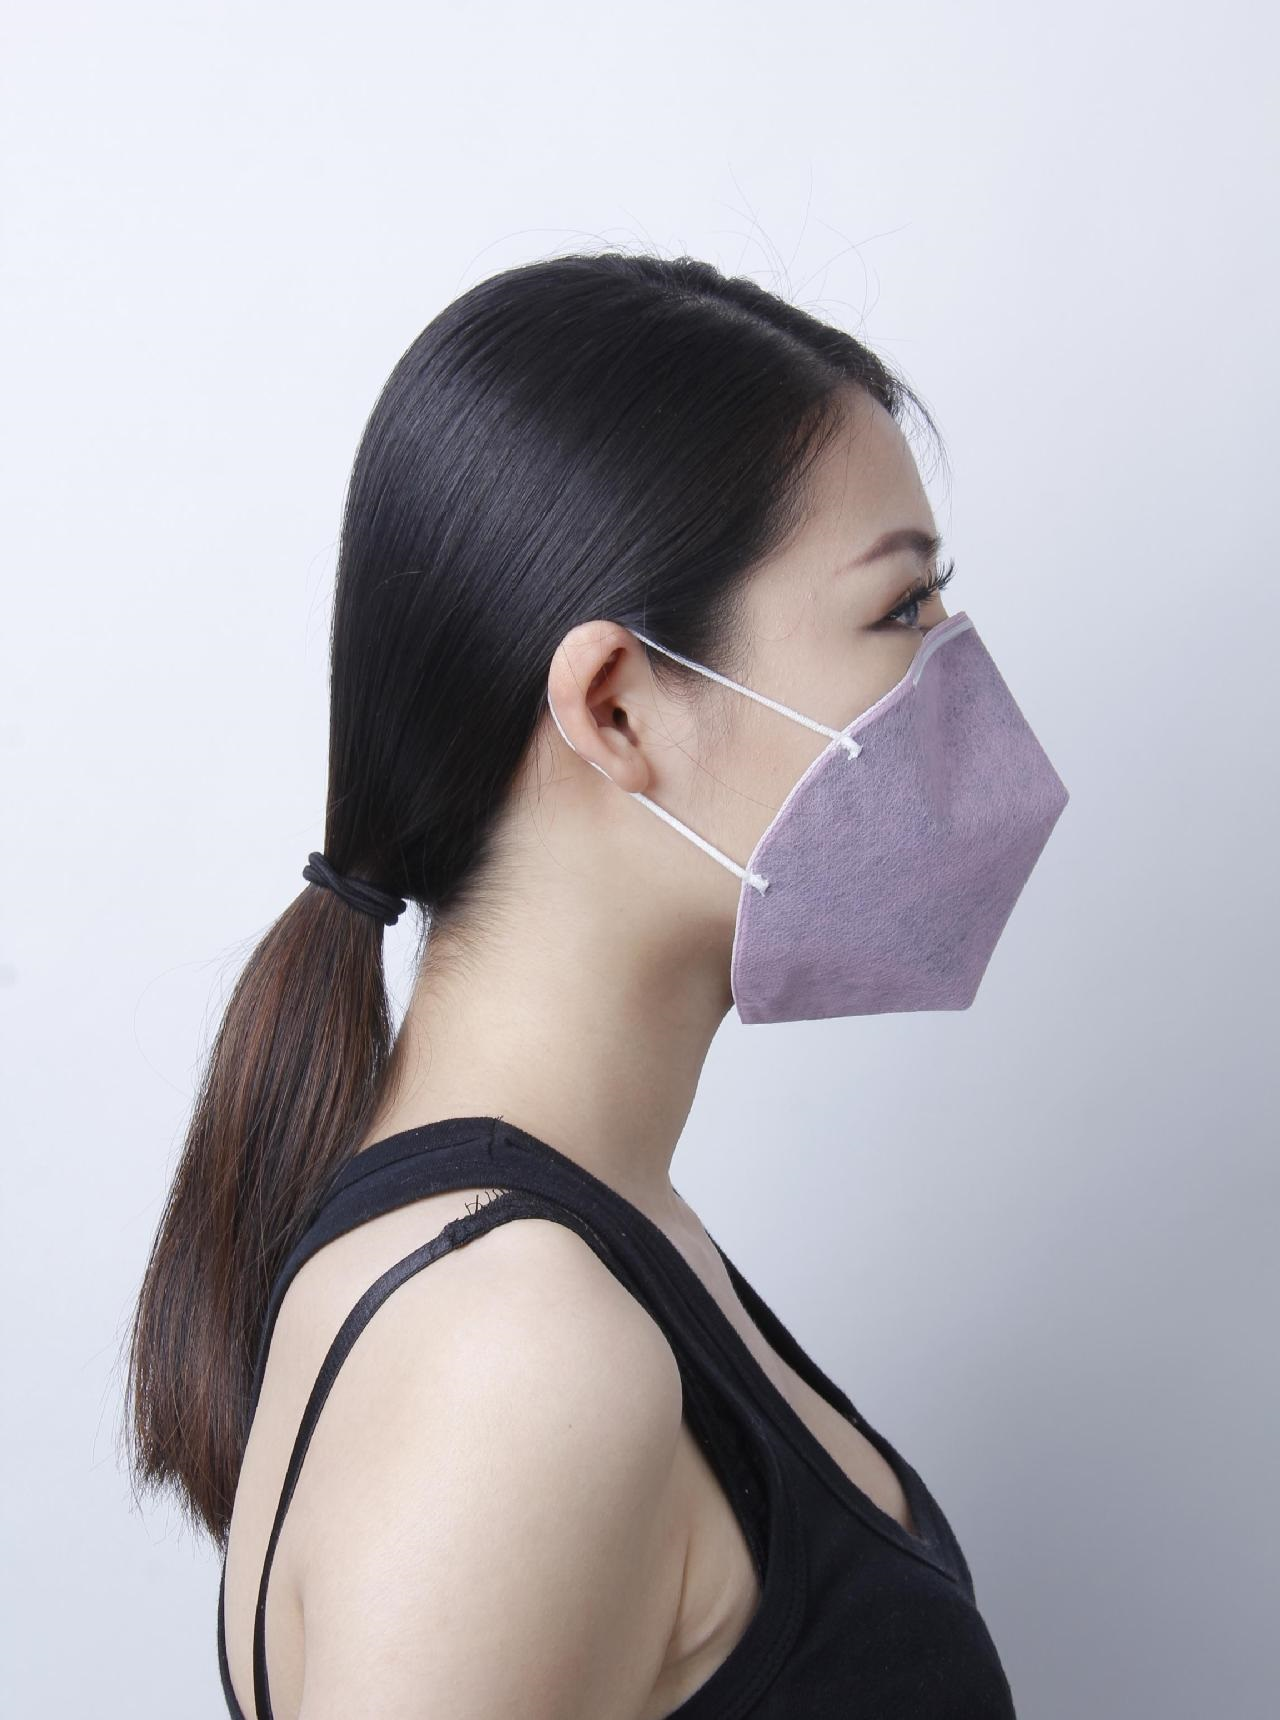face_mask: (676, 354, 995, 1034)
